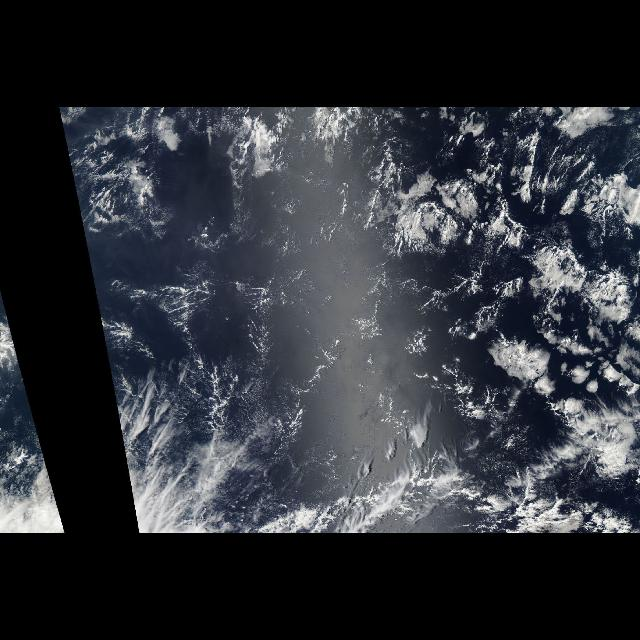Flower: (317, 138, 639, 472)
